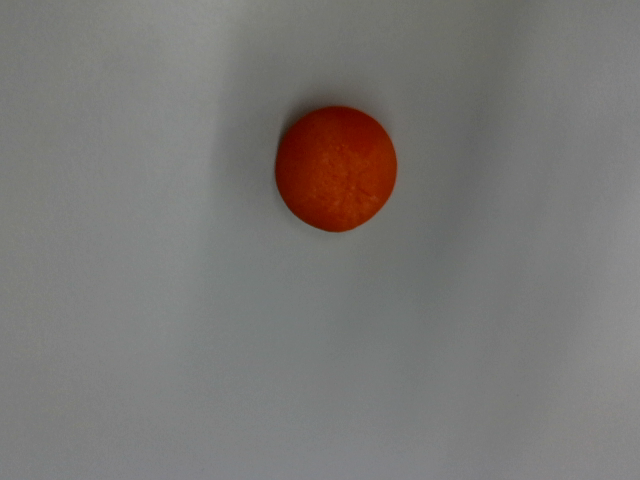orange: (248, 81, 422, 254)
